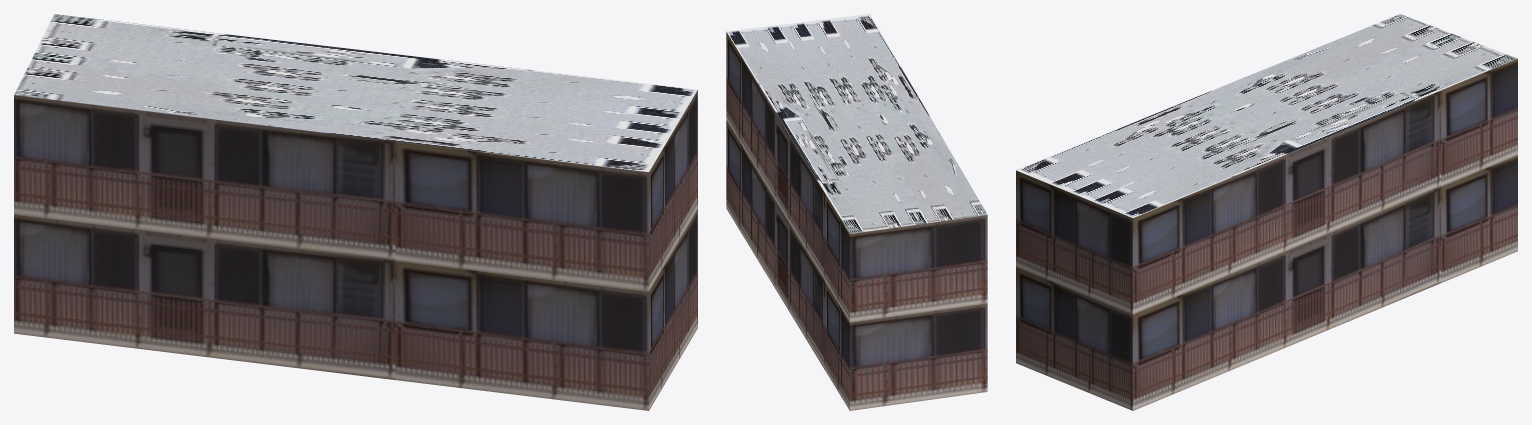
File: ResTex__1303.fbx
The picture shows the model from 3 angles, left to right: view 1: azimuth 30°, elevation 25°; view 2: azimuth 150°, elevation 25°; view 3: azimuth 270°, elevation 25°; orthographic projection. The views are drawn at different scales.
Parts seen in each view (by area): view 1: CityEngineMaterial_6_m, CityEngineMaterial_m; view 2: CityEngineMaterial_6_m, CityEngineMaterial_m; view 3: CityEngineMaterial_6_m, CityEngineMaterial_m.
Part boxes in pixels (x1=…): CityEngineMaterial_6_m: x1=14, y1=90, x2=697, y2=410; CityEngineMaterial_m: x1=14, y1=14, x2=697, y2=172; CityEngineMaterial_6_m: x1=726, y1=32, x2=987, y2=410; CityEngineMaterial_m: x1=726, y1=14, x2=987, y2=233; CityEngineMaterial_6_m: x1=1016, y1=58, x2=1517, y2=410; CityEngineMaterial_m: x1=1016, y1=14, x2=1517, y2=217.
Bounding box in the file's own units: 13.63 × 6 × 14.16.
Materials: 2 (2 with a texture image).
